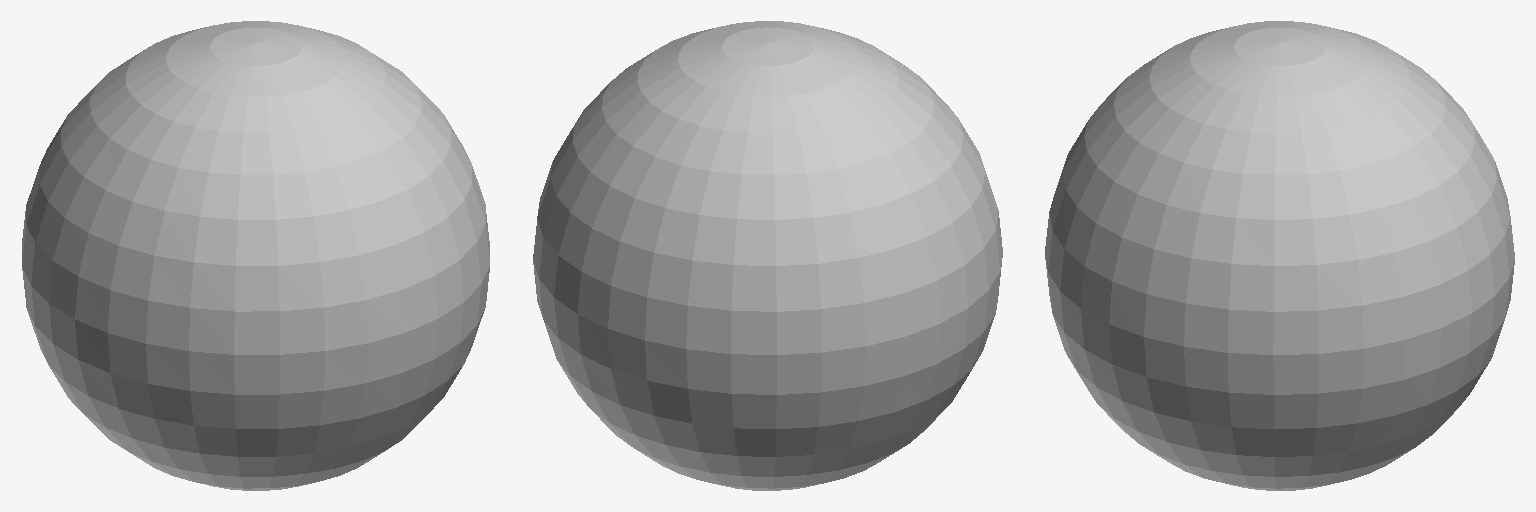
File: Mars.obj
The picture shows the model from 3 angles: view 1: azimuth 30°, elevation 25°; view 2: azimuth 150°, elevation 25°; view 3: azimuth 270°, elevation 25°; orthographic projection.
Parts seen in each view (by area): view 1: 42; view 2: 42; view 3: 42.
Boxes of the visible parts, x1,y1,x2,y2 form: 42: [22, 21, 489, 490]; 42: [533, 21, 1002, 490]; 42: [1045, 21, 1514, 490].
Size of the model in its own units: 1.81 by 1.81 by 1.81.